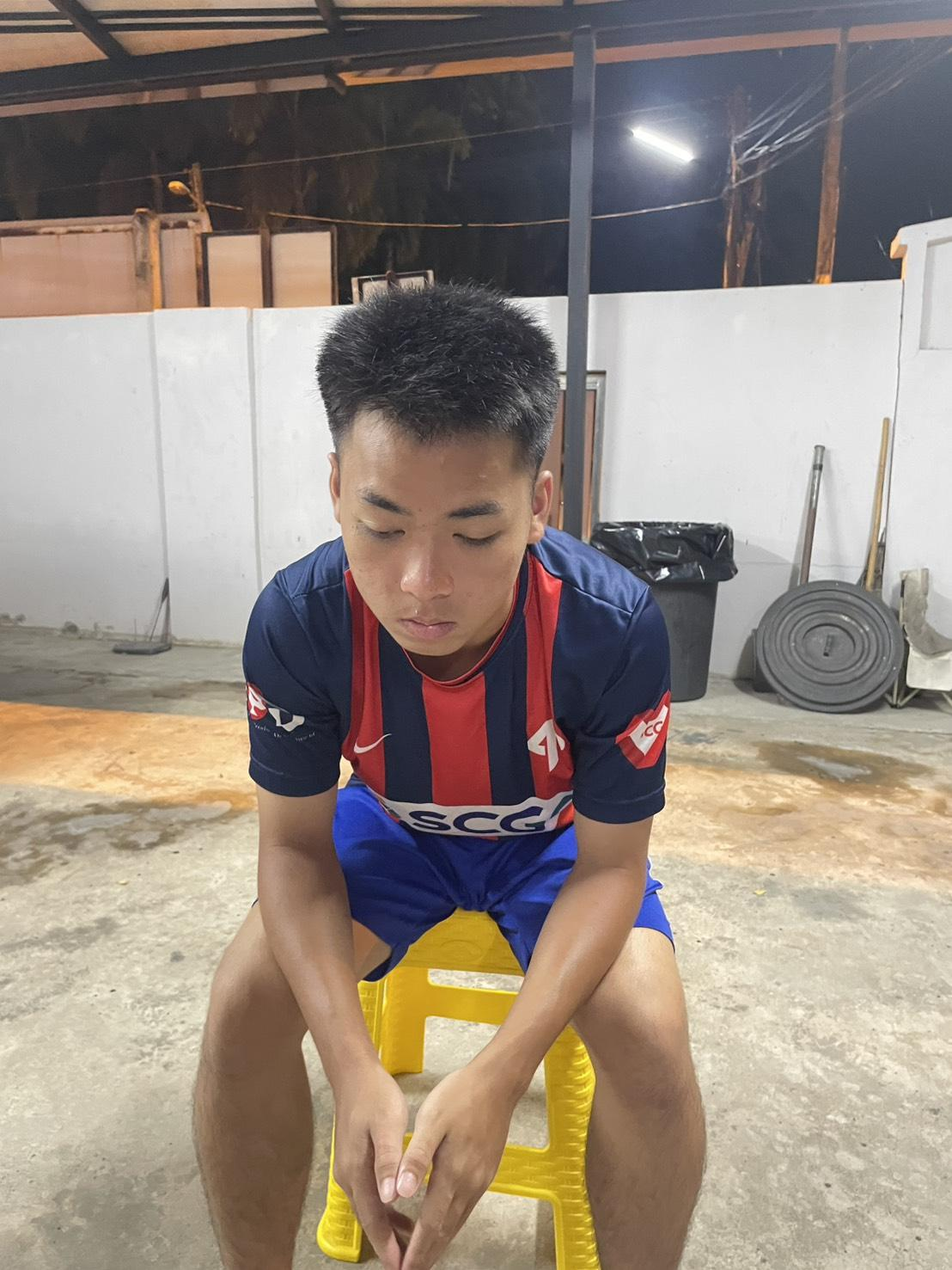BadPosture: (245, 274, 677, 835), (243, 287, 671, 839), (244, 287, 669, 837)
